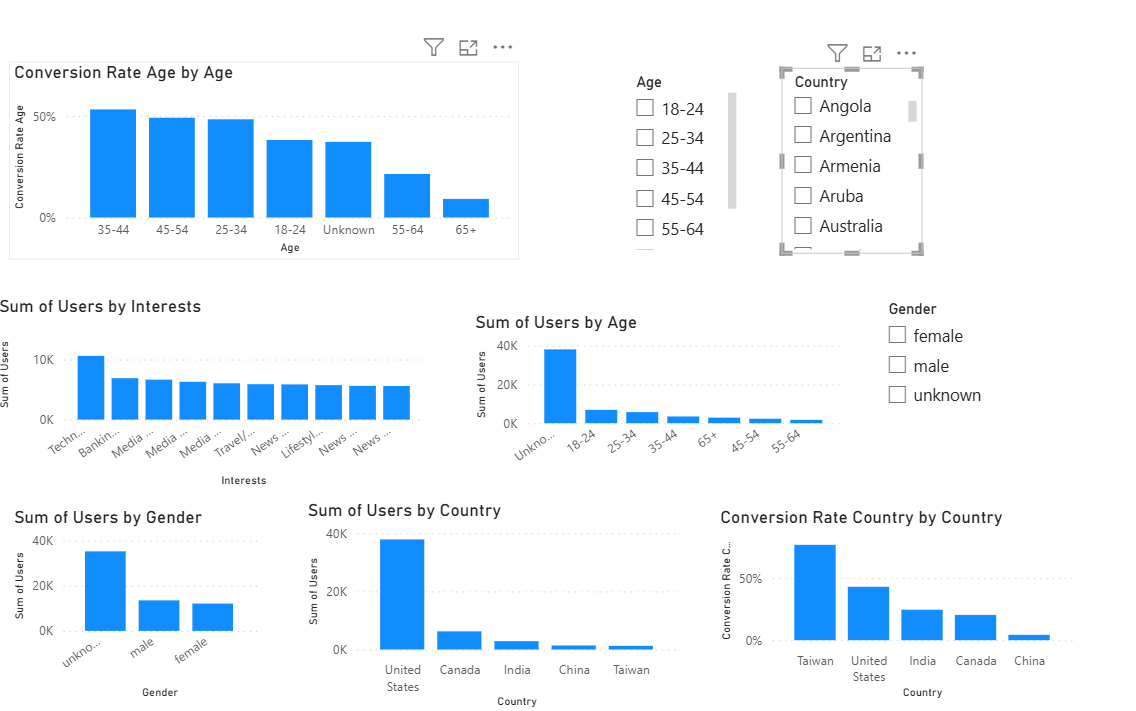

What the dashboard file says about the page in this screenshot:
{"tool":"powerbi","page":{"name":"Audience","canvas":[1280,720],"ordinal":3},"visuals":[{"type":"columnChart","fields":{"Category":["Age.Age"],"Y":["Sum(Age.Users)"]},"box":[460,325.7,361.4,160],"z":0},{"type":"clusteredColumnChart","fields":{"Y":["Sum(Gender.Users)"],"Category":["Gender.Gender"]},"box":[14.3,514.3,244.3,190],"z":1000},{"type":"columnChart","fields":{"Category":["Country.Country"],"Y":["Sum(Country.Users)"]},"box":[297.9,506.5,366.6,206.2],"z":2000},{"type":"columnChart","fields":{"Category":["Interests.Interests"],"Y":["Sum(Interests.Users)"]},"box":[0,310,420,190],"z":3000},{"type":"columnChart","fields":{"Category":["Age.Age"],"Y":["Age.Conversion Rate Age"]},"box":[14.5,84.4,492.1,190.6],"z":4000},{"type":"columnChart","fields":{"Category":["Country.Country"],"Y":["Age.Conversion Rate Country"]},"box":[695.7,514.3,350,190],"z":5000},{"type":"slicer","fields":{"Values":["Age.Age"]},"box":[607.1,90,114.3,180],"z":6000},{"type":"slicer","fields":{"Values":["Country.Country"]},"box":[760,90,135.7,180],"z":7000},{"type":"slicer","fields":{"Values":["Gender.Gender"]},"box":[850,310,180,130],"z":8000}]}

Visuals, with their boxes on the page's 1280x720 design canvas (x1, y1, x2, y2). These are canvas units, not pixel positions in the 1136x711 screenshot, which may show the page scaled, cropped or inside an application window:
columnChart - Age.Age x Sum(Age.Users): {"x1": 460, "y1": 326, "x2": 821, "y2": 486}
clusteredColumnChart - Sum(Gender.Users) x Gender.Gender: {"x1": 14, "y1": 514, "x2": 259, "y2": 704}
columnChart - Country.Country x Sum(Country.Users): {"x1": 298, "y1": 506, "x2": 664, "y2": 713}
columnChart - Interests.Interests x Sum(Interests.Users): {"x1": 0, "y1": 310, "x2": 420, "y2": 500}
columnChart - Age.Age x Age.Conversion Rate Age: {"x1": 14, "y1": 84, "x2": 507, "y2": 275}
columnChart - Country.Country x Age.Conversion Rate Country: {"x1": 696, "y1": 514, "x2": 1046, "y2": 704}
slicer - Age.Age: {"x1": 607, "y1": 90, "x2": 721, "y2": 270}
slicer - Country.Country: {"x1": 760, "y1": 90, "x2": 896, "y2": 270}
slicer - Gender.Gender: {"x1": 850, "y1": 310, "x2": 1030, "y2": 440}
